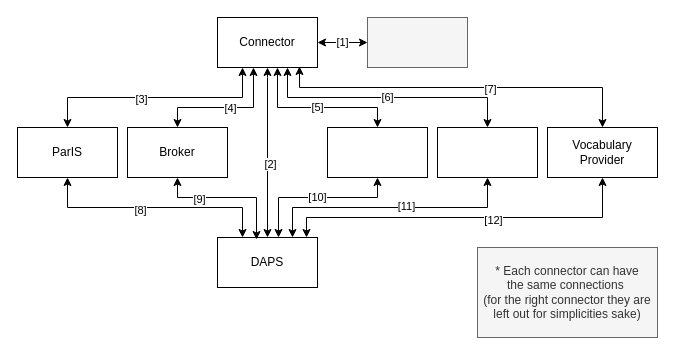
Some shapes in this 675 by 355 pixel diagram are drawn without their labels. Here are the shapes that lost their labels. From the top down, the box of each, then its label:
(366, 16, 468, 68): Connector*
(326, 126, 428, 178): Clearing House
(436, 126, 538, 178): App Store
